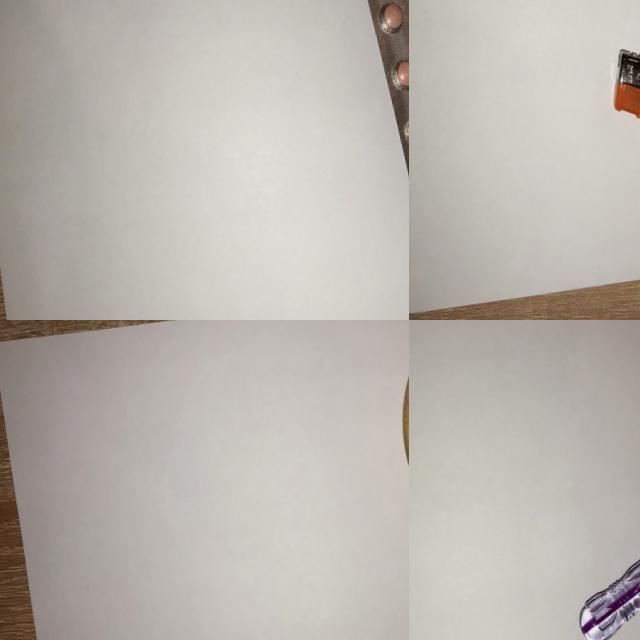lighter: (598, 21, 640, 184)
screwdriver: (562, 505, 640, 640)
tablets: (347, 0, 409, 236)
